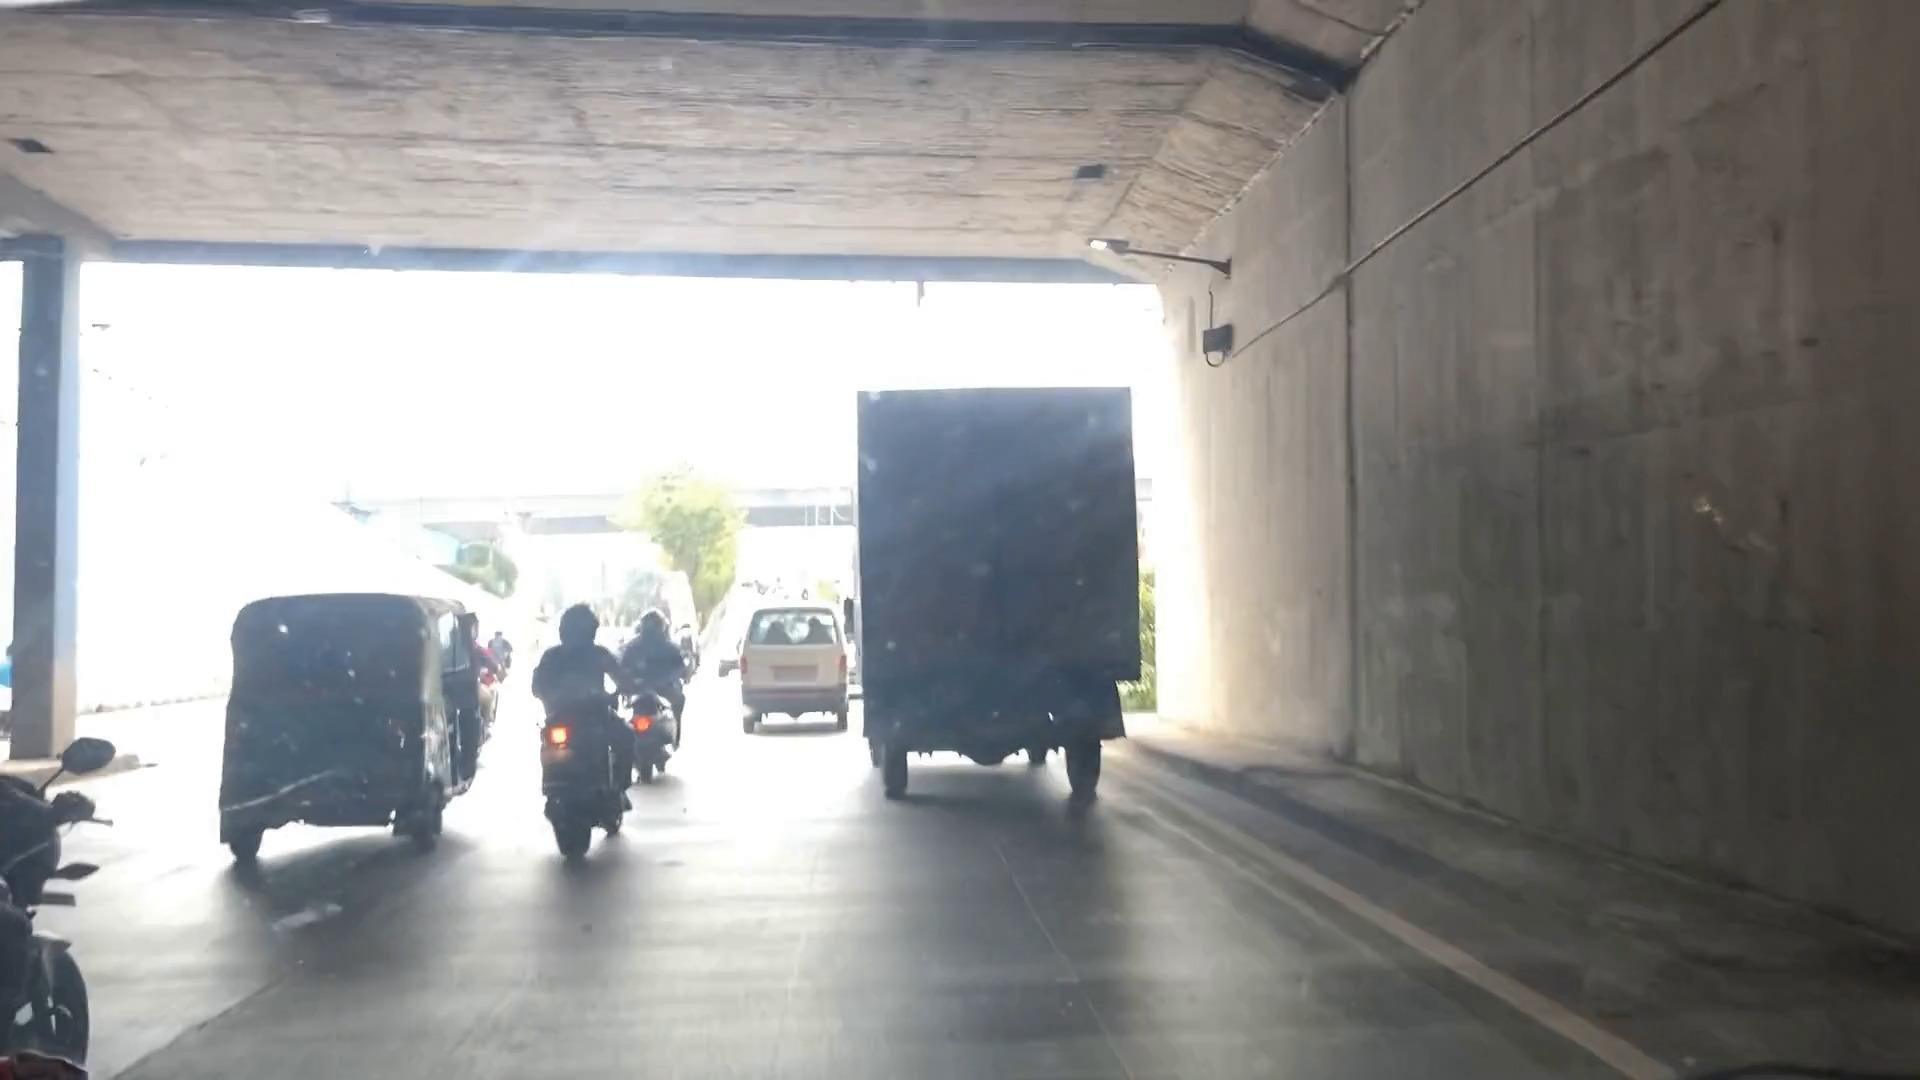HMV: (864, 386, 1131, 796)
LMV: (214, 600, 455, 853), (543, 617, 634, 865), (740, 600, 833, 737)
